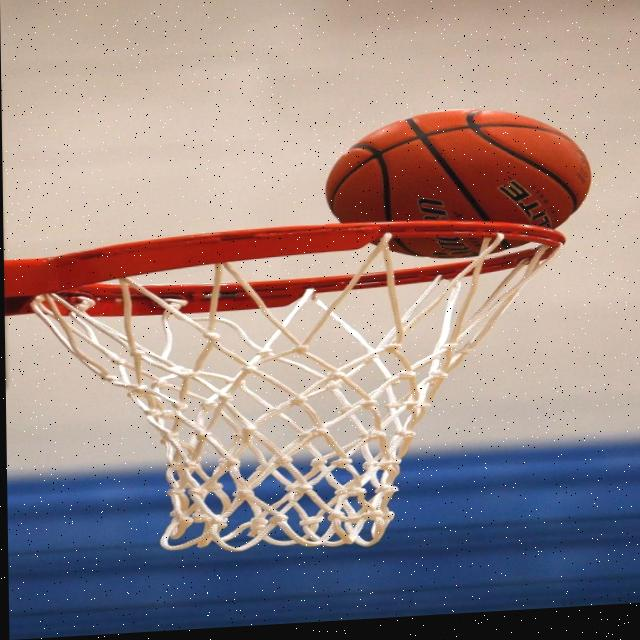hoop: (23, 196, 619, 593)
